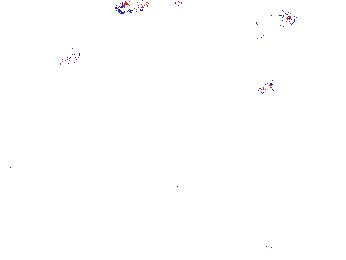red belly glassfish: (255, 73, 295, 96), (59, 50, 84, 67)
redtail glassfish: (251, 9, 298, 37), (113, 1, 183, 16)
